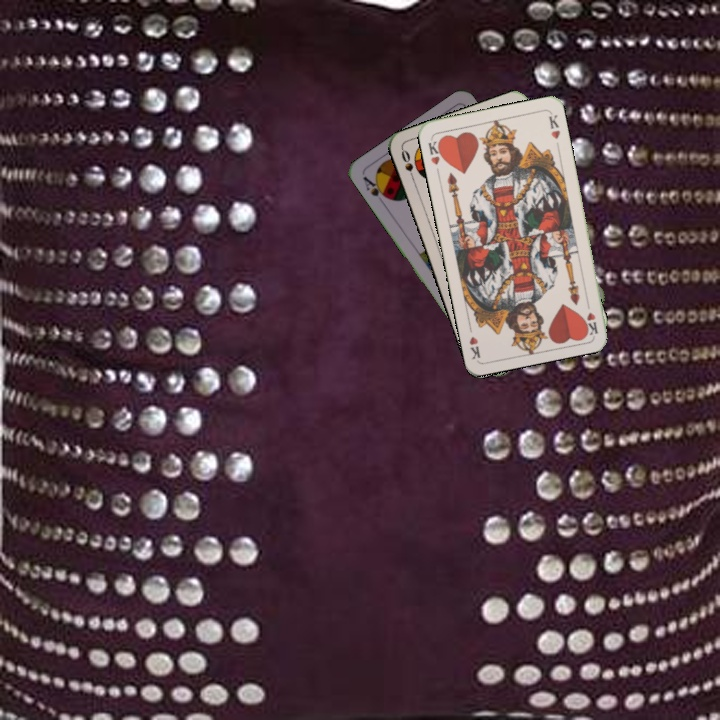HK: (582, 296, 601, 337), (424, 135, 446, 167)
SA: (359, 172, 392, 207)
SO: (397, 145, 418, 185)
